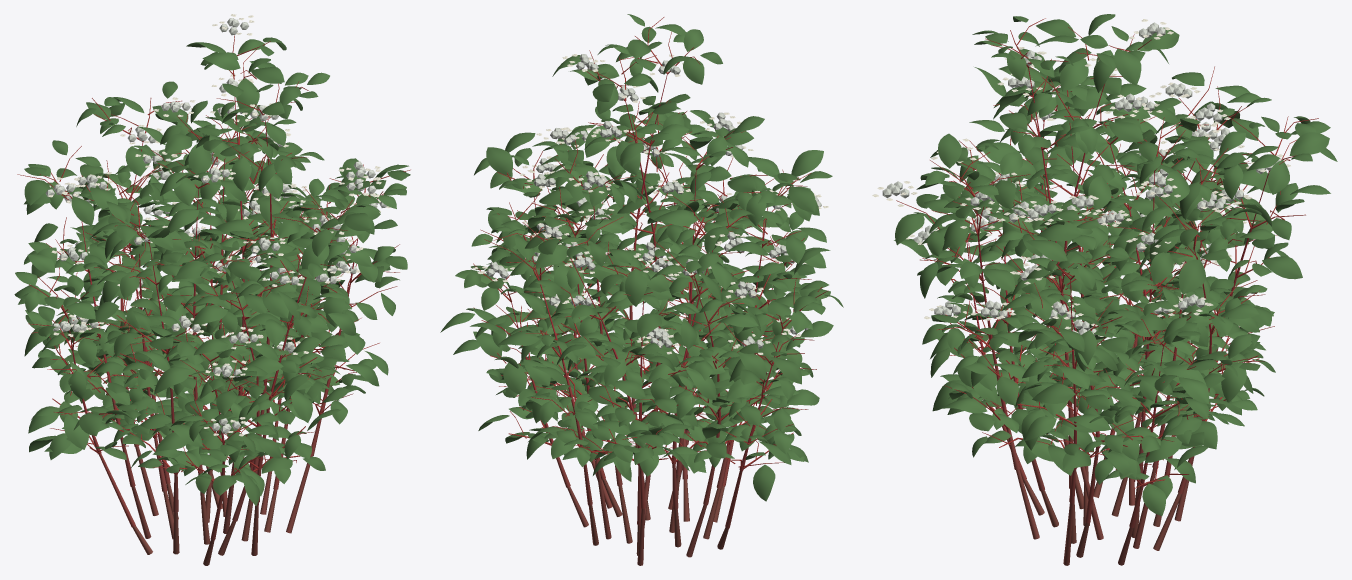
The model's file is dogwood.glb.
3 renders of one model, left to right at view 1: azimuth 30°, elevation 25°; view 2: azimuth 150°, elevation 25°; view 3: azimuth 270°, elevation 25°, orthographic. The views are drawn at different scales.
Visible parts, largest first — view 1: leaves, branches, fruit, blooms; view 2: leaves, branches, fruit, blooms; view 3: leaves, branches, fruit, blooms.
Boxes of the visible parts, x1,y1,x2,y2 form: leaves: (14, 37, 410, 505); branches: (17, 35, 410, 565); fruit: (45, 18, 386, 433); blooms: (48, 14, 390, 436); leaves: (440, 14, 843, 501); branches: (473, 17, 828, 565); fruit: (486, 54, 821, 349); blooms: (472, 54, 828, 354); leaves: (894, 14, 1337, 515); branches: (896, 18, 1318, 565); fruit: (882, 22, 1281, 335); blooms: (872, 19, 1290, 336).
Size of the model in its own units: 2.56 by 3.18 by 2.53.
